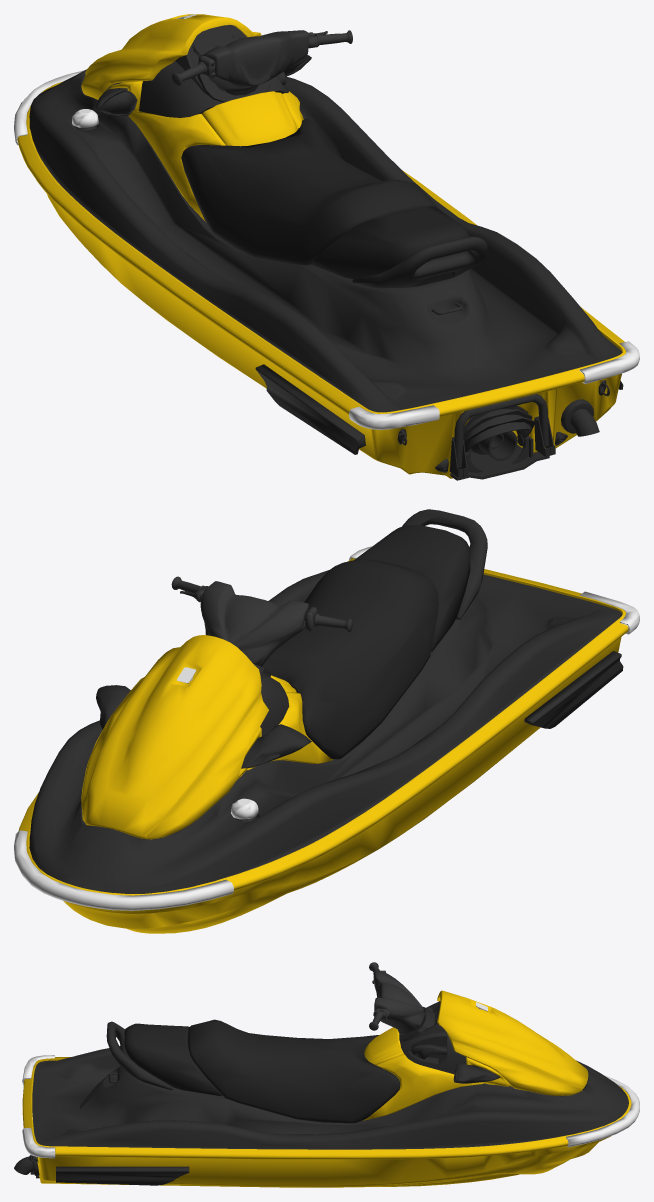
File: kawasaki-st15f.glb
3 renders of one model, top to bottom at view 1: azimuth 30°, elevation 25°; view 2: azimuth 150°, elevation 25°; view 3: azimuth 270°, elevation 25°, orthographic. The views are drawn at different scales.
Bounding box in the file's own units: 1.22 × 1.07 × 3.16.
